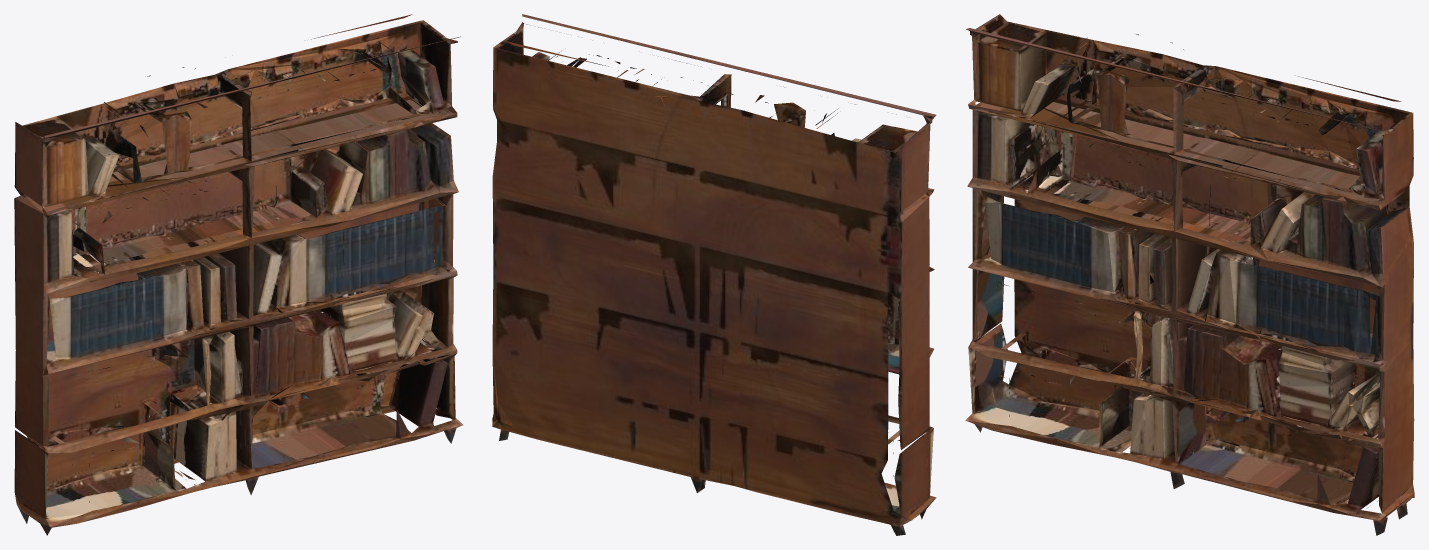
Rendered from bookshelf_wide_low_lod0.glb.
The picture shows the model from 3 angles, left to right: view 1: azimuth 30°, elevation 25°; view 2: azimuth 150°, elevation 25°; view 3: azimuth 330°, elevation 25°; orthographic projection.
Visible parts, largest first — view 1: bookshelf_wide_low_lod0; view 2: bookshelf_wide_low_lod0; view 3: bookshelf_wide_low_lod0.
Boxes of the visible parts, x1,y1,x2,y2 form: bookshelf_wide_low_lod0: (14,14,462,535); bookshelf_wide_low_lod0: (492,14,936,535); bookshelf_wide_low_lod0: (965,14,1414,535).
Bounding box in the file's own units: 1.9 × 1.8 × 0.2932.
Materials: 1 (1 with a texture image).
